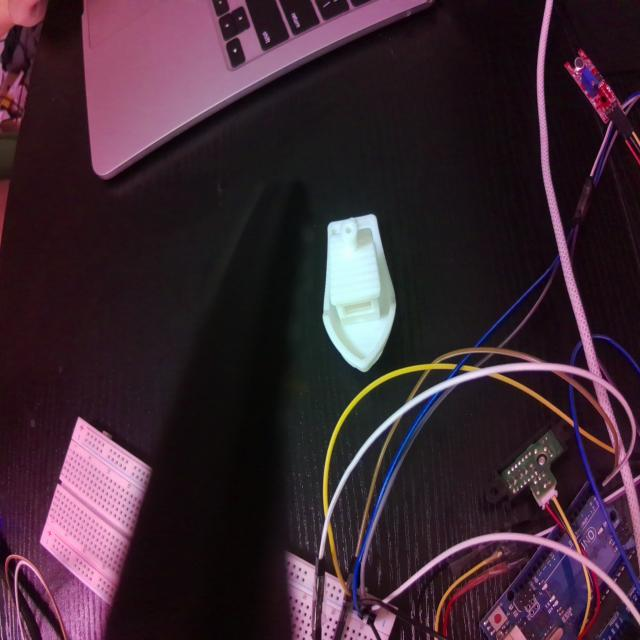ship: (321, 211, 398, 374)
